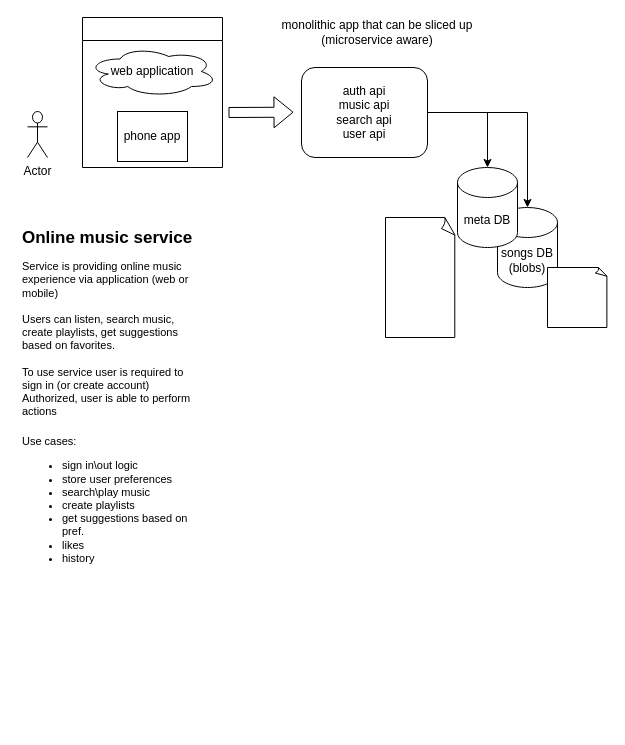
Image size: 625x745. Some labels were removed from this diagram. The shapes that lost their labels are listed below. From the top down, each one's centre as x and y in pixels, then its label:
At (x=152, y=92): "entrypoint".
At (x=420, y=277): "artist title album year genre size song_url".
At (x=577, y=297): "song_id".
